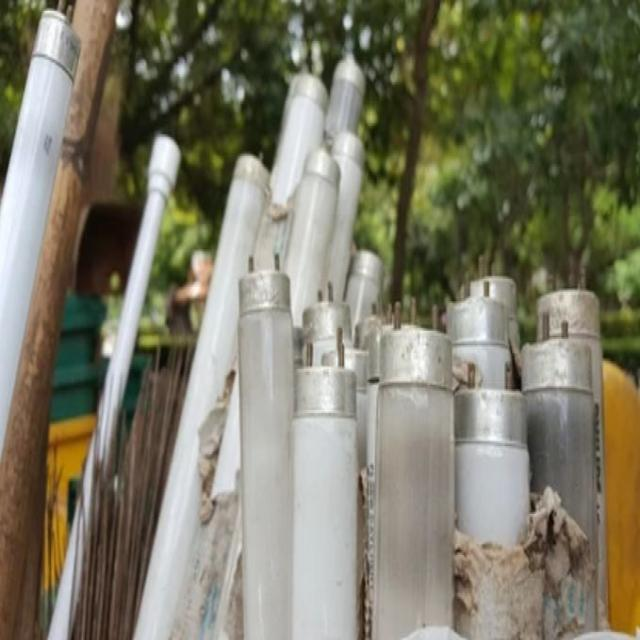electronic: (0, 8, 639, 638), (452, 385, 530, 547)
